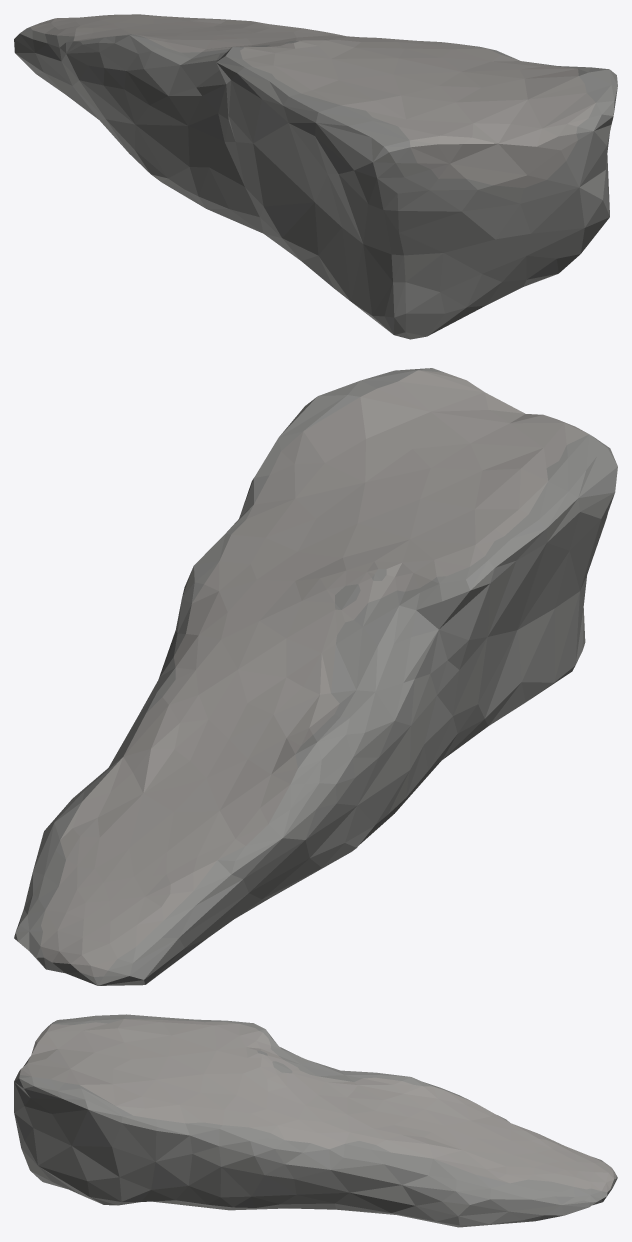
Rendered from Cavern_Floor_Narrow_Ramp_Lrg-02.fbx.
The picture shows the model from 3 angles, top to bottom: view 1: azimuth 30°, elevation 25°; view 2: azimuth 150°, elevation 25°; view 3: azimuth 270°, elevation 25°; orthographic projection. The views are drawn at different scales.
Parts seen in each view (by area): view 1: Cavern_Floor_Narrow_Ramp_Lrg-02; view 2: Cavern_Floor_Narrow_Ramp_Lrg-02; view 3: Cavern_Floor_Narrow_Ramp_Lrg-02.
Boxes of the visible parts, box(x1,y1,x2,y2) form: Cavern_Floor_Narrow_Ramp_Lrg-02: box(14, 14, 617, 339); Cavern_Floor_Narrow_Ramp_Lrg-02: box(14, 368, 617, 985); Cavern_Floor_Narrow_Ramp_Lrg-02: box(14, 1014, 617, 1227).
Size of the model in its own units: 747 by 603 by 2050.
1 material, 1 textured.
